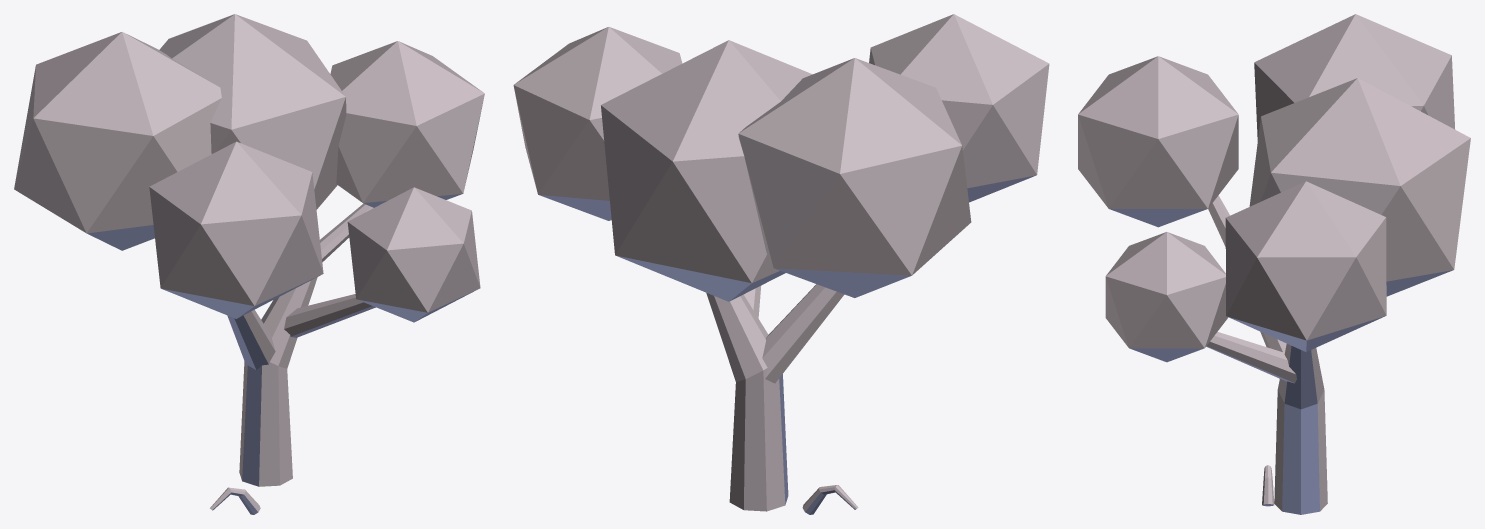
The model's file is WhiteTree.fbx.
3 renders of one model, left to right at view 1: azimuth 30°, elevation 25°; view 2: azimuth 150°, elevation 25°; view 3: azimuth 270°, elevation 25°, orthographic. The views are drawn at different scales.
Visible parts, largest first — view 1: Icosphere.003, Cylinder.003; view 2: Icosphere.003, Cylinder.003; view 3: Icosphere.003.
Boxes of the visible parts, x1,y1,x2,y2 form: Icosphere.003: [14, 14, 484, 486]; Cylinder.003: [210, 487, 260, 514]; Icosphere.003: [513, 14, 1049, 511]; Cylinder.003: [802, 485, 858, 514]; Icosphere.003: [1078, 14, 1470, 514].
Bounding box in the file's own units: 1996 × 2139 × 1681.
Materials: 1 (1 with a texture image).
